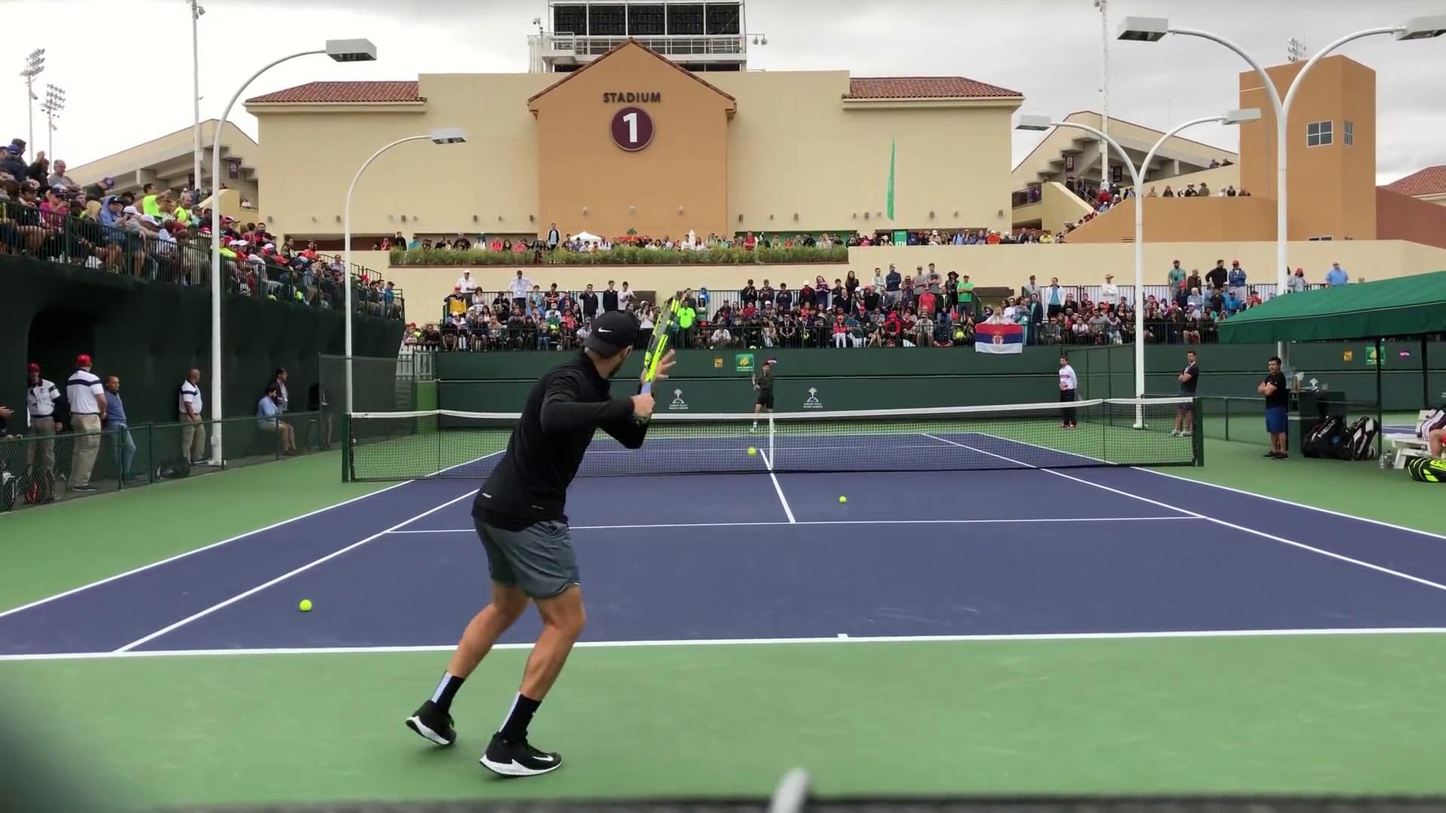ball: (299, 598, 312, 612), (746, 445, 757, 460), (837, 494, 848, 503)
